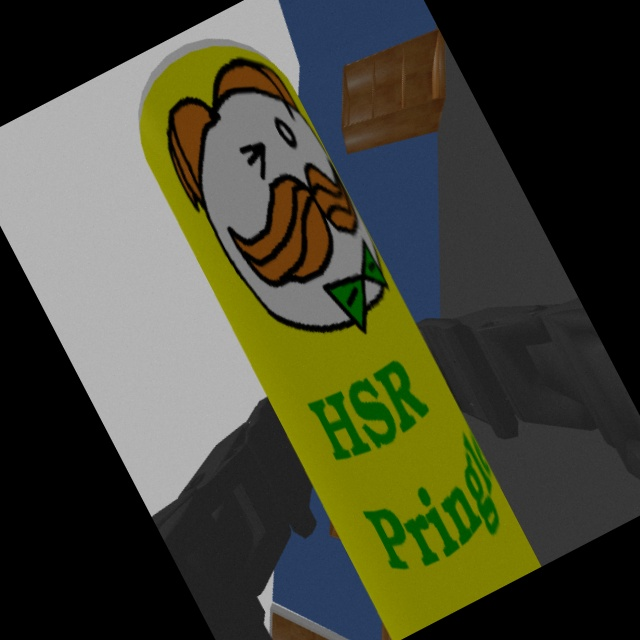chipsdose_gelb: (140, 38, 544, 640)
